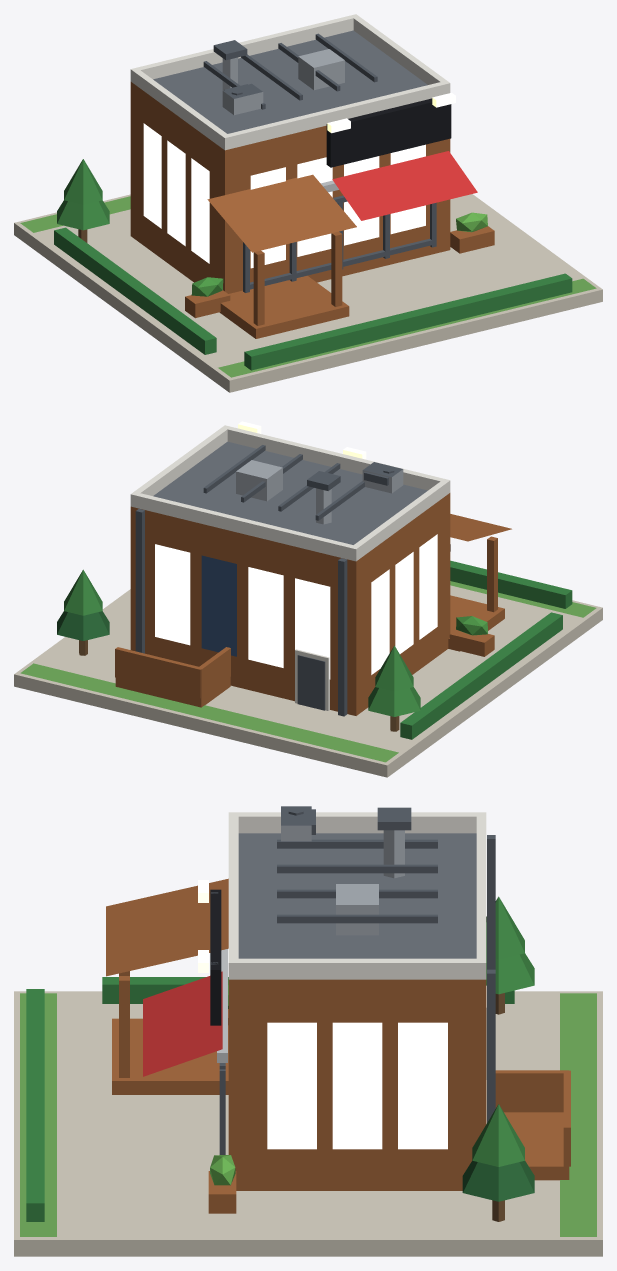
The picture shows the model from 3 angles, top to bottom: view 1: azimuth 30°, elevation 25°; view 2: azimuth 150°, elevation 25°; view 3: azimuth 270°, elevation 25°; orthographic projection. The views are drawn at different scales.
Parts seen in each view (by area): view 1: b14; view 2: b14; view 3: b14.
Part boxes in pixels (<box>): b14: <box>14,14,602,392</box>; b14: <box>14,421,602,777</box>; b14: <box>14,806,602,1256</box>.
Size of the model in its own units: 0.96 by 0.515 by 0.96.
